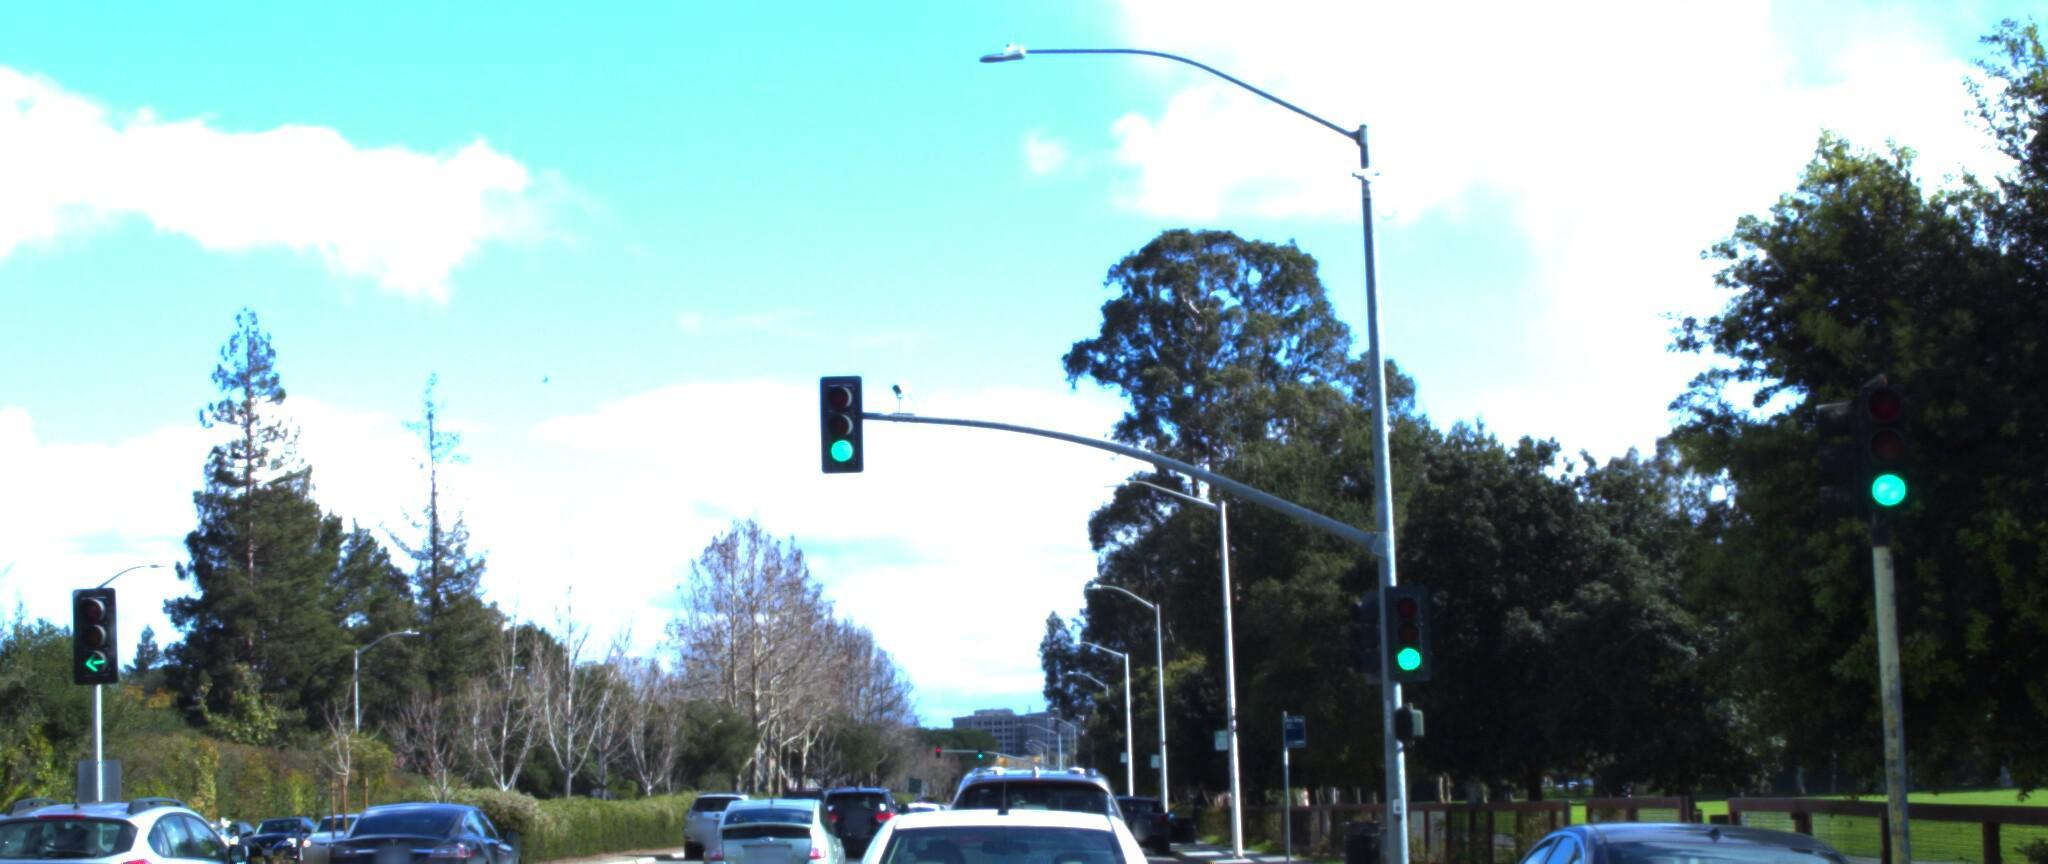car: (782, 714, 1202, 864), (1429, 780, 1977, 864), (0, 757, 312, 864), (963, 703, 1159, 864), (317, 766, 546, 864), (0, 762, 195, 864), (701, 767, 854, 864), (829, 761, 929, 848), (662, 766, 754, 835), (0, 780, 67, 864)
other_vehicle: (1799, 0, 2048, 864)
